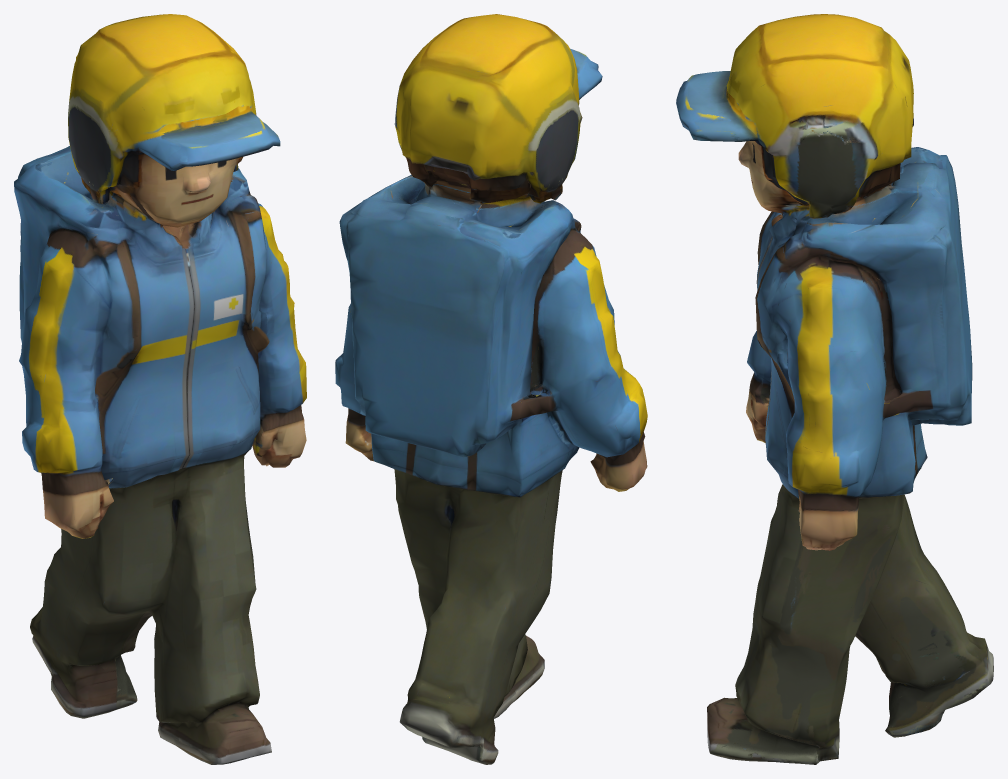
Rendered from waimai.glb.
3 renders of one model, left to right at view 1: azimuth 30°, elevation 25°; view 2: azimuth 150°, elevation 25°; view 3: azimuth 270°, elevation 25°, orthographic. The views are drawn at different scales.
Size of the model in its own units: 0.8482 by 2.01 by 0.814.
Materials: 1 (1 with a texture image).
